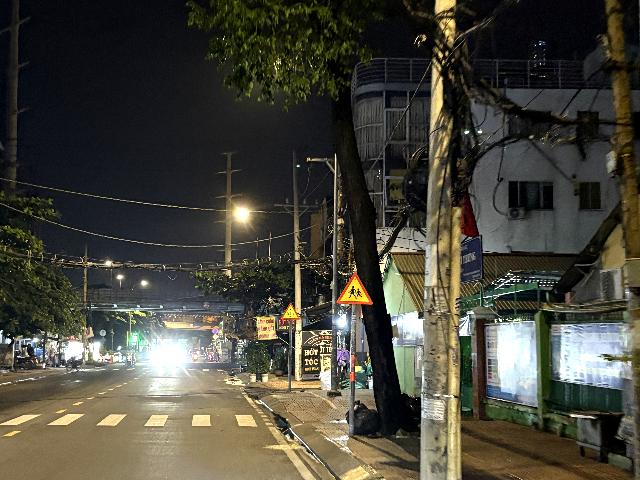tre-em-qua-duong: (336, 271, 373, 305)
